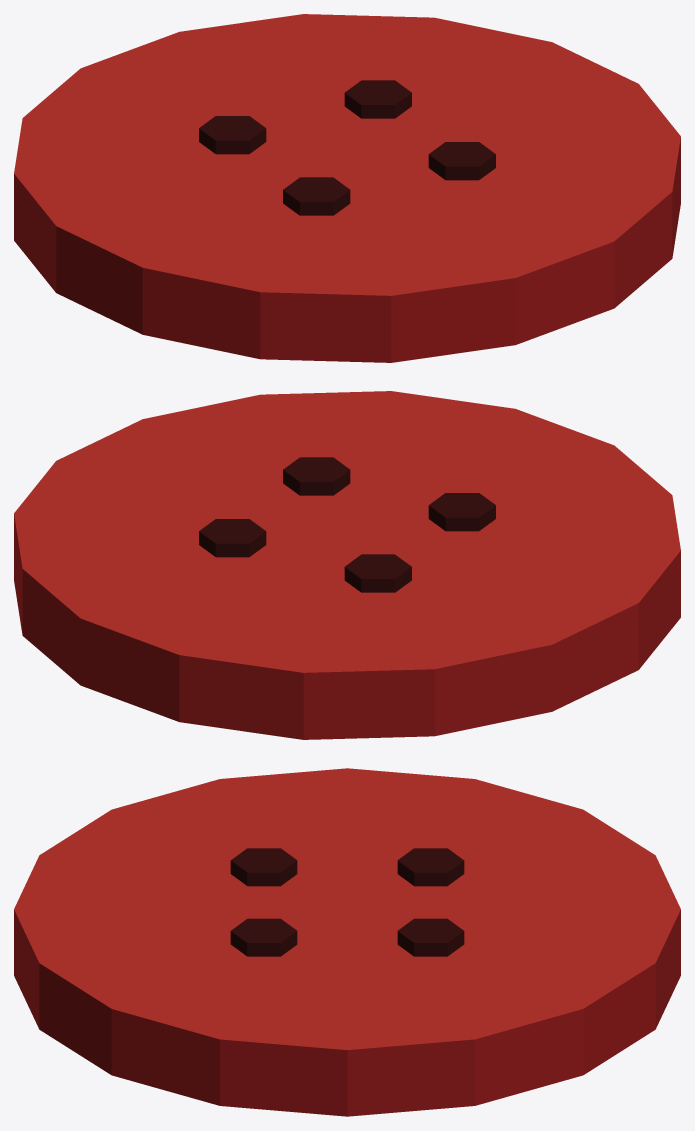
Rendered from curios-button.glb.
3 renders of one model, top to bottom at view 1: azimuth 30°, elevation 25°; view 2: azimuth 150°, elevation 25°; view 3: azimuth 270°, elevation 25°, orthographic.
Bounding box in the file's own units: 2 × 0.265 × 2.
